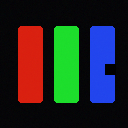1 square: (105, 64, 115, 74)
